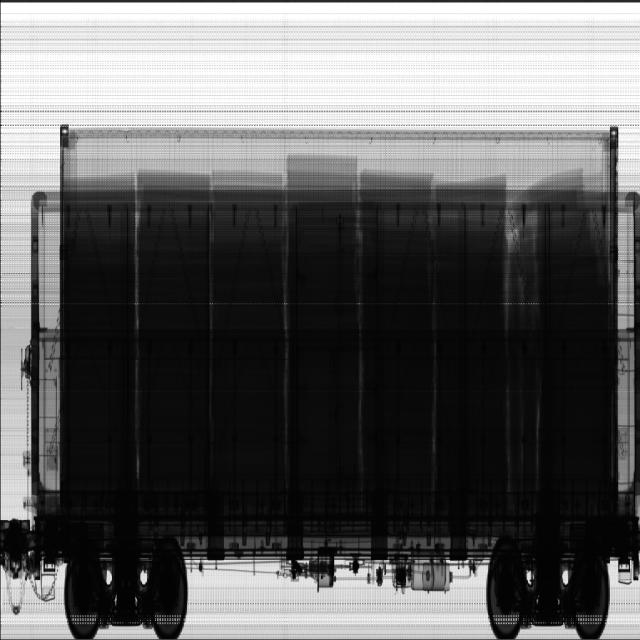fabrics: (62, 152, 613, 512)
